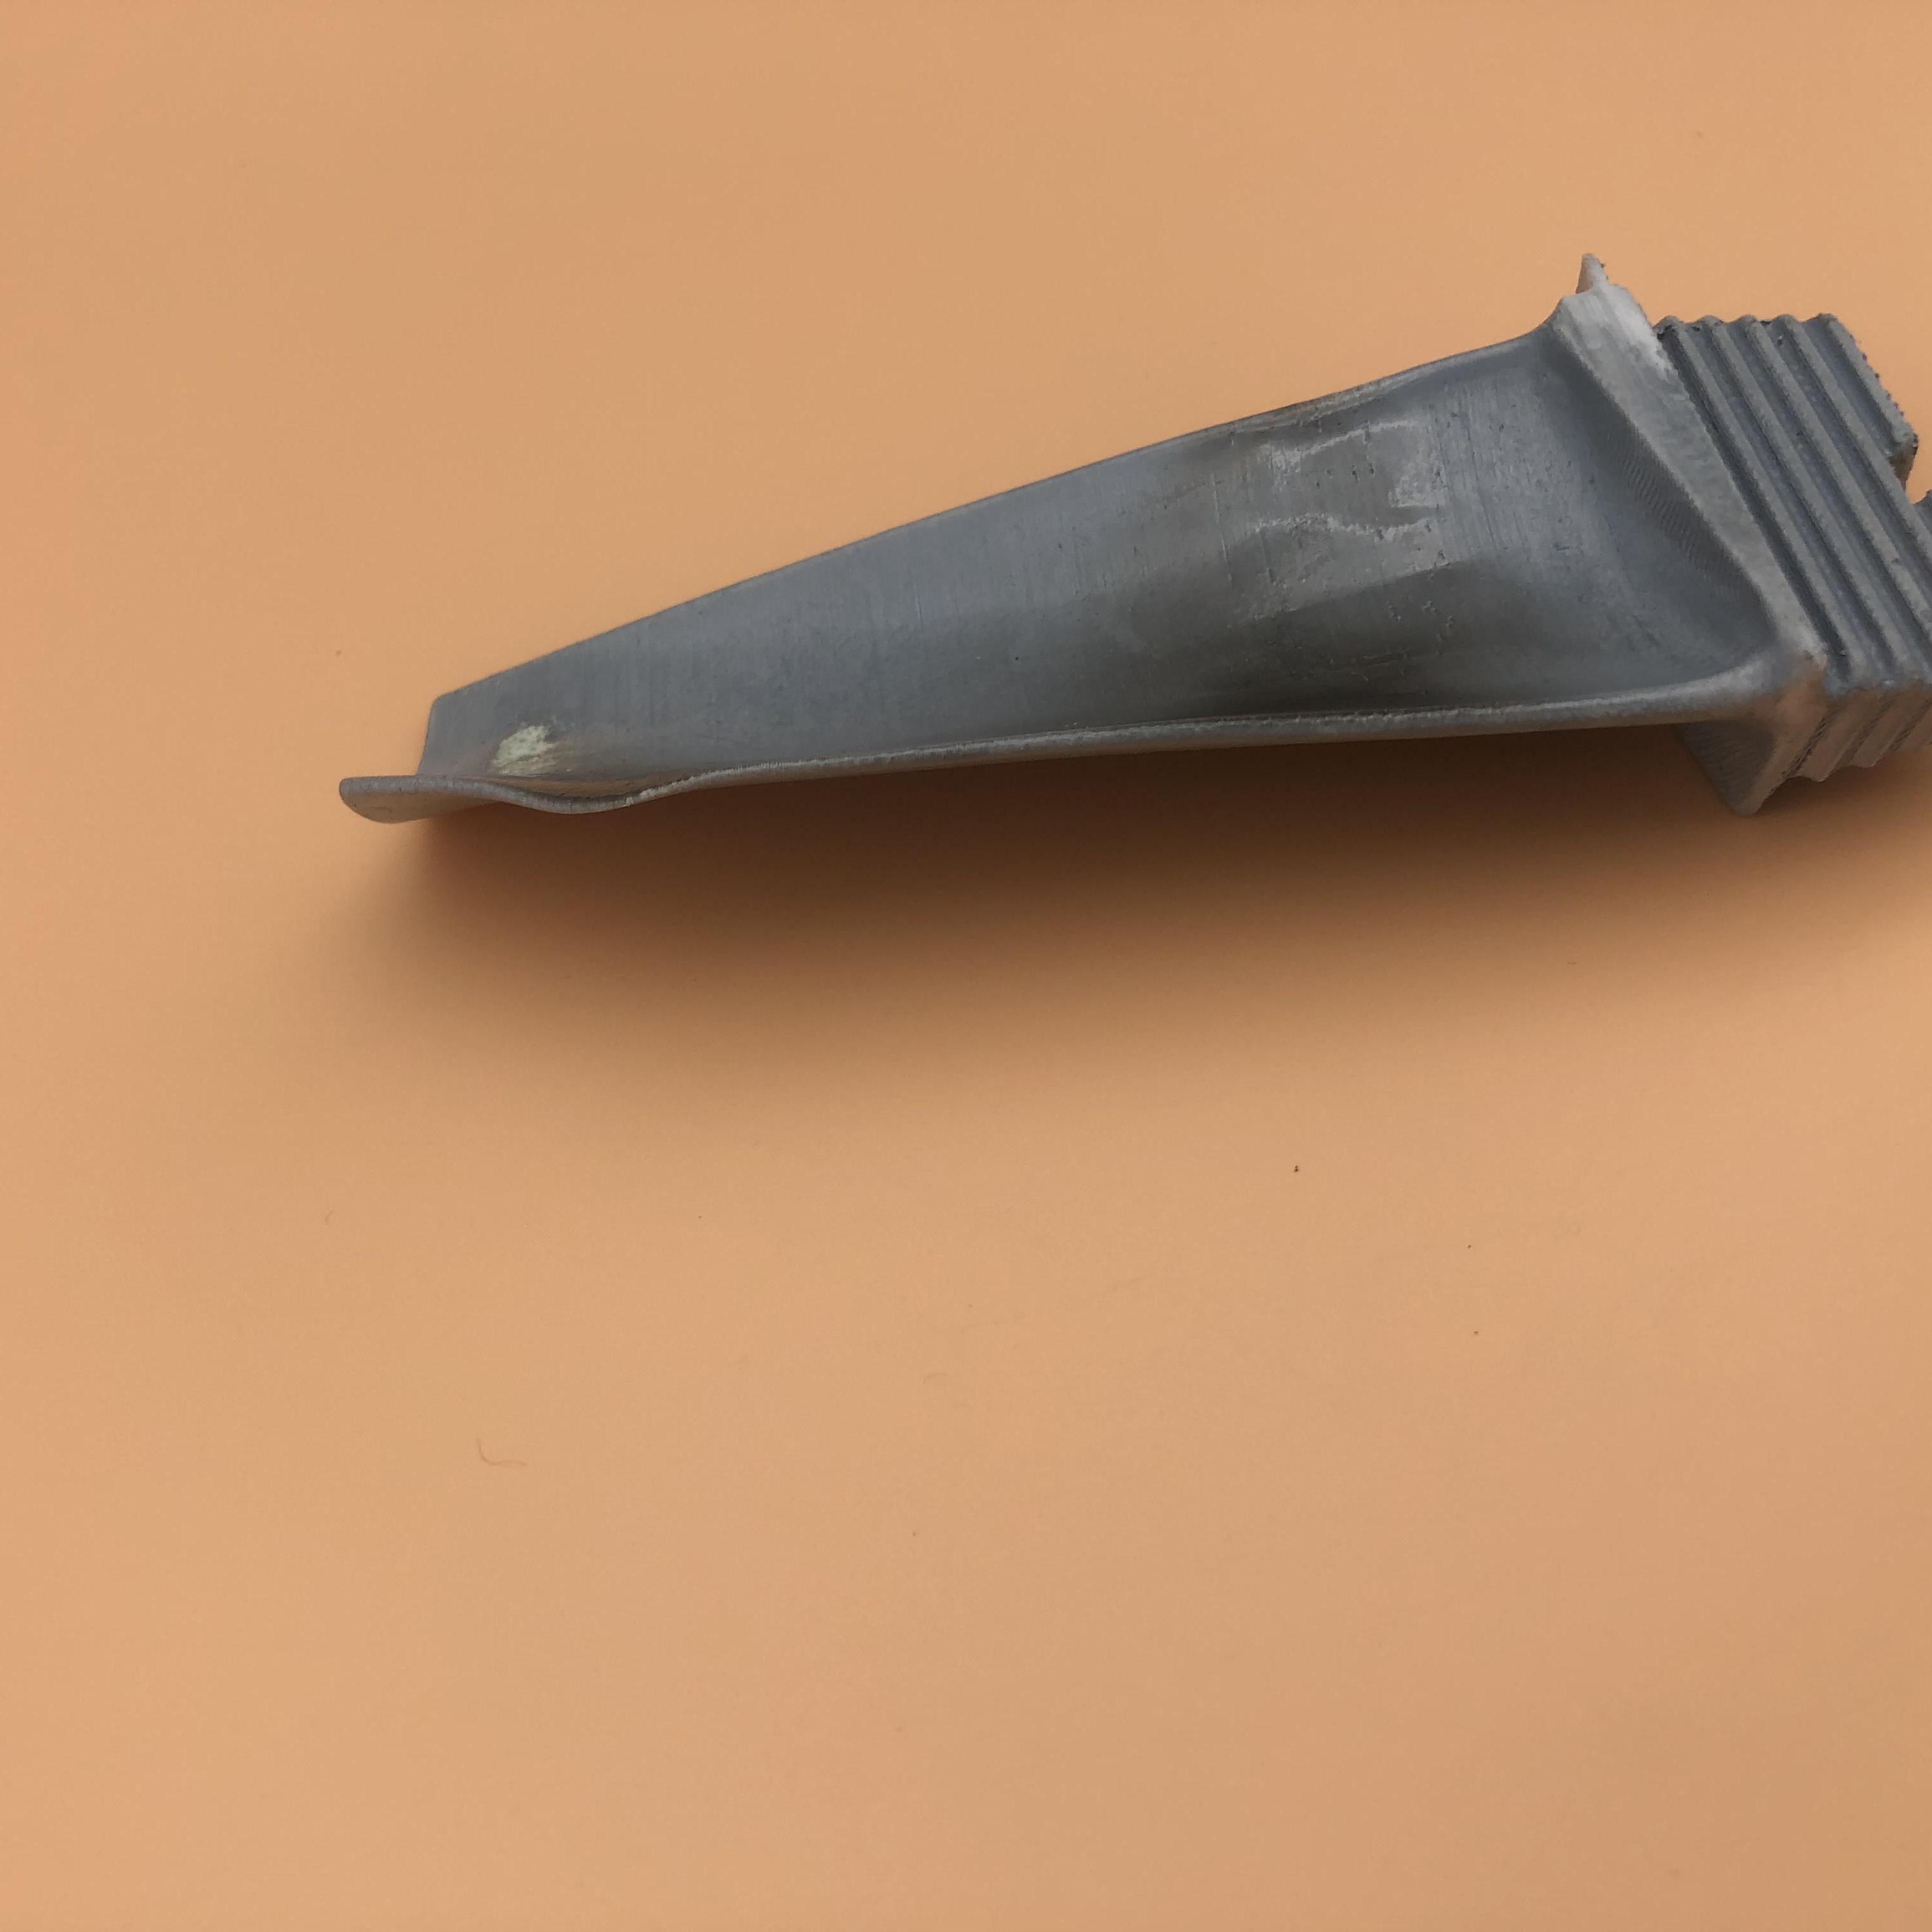ablation: (1168, 435, 1523, 725), (485, 720, 724, 810)
